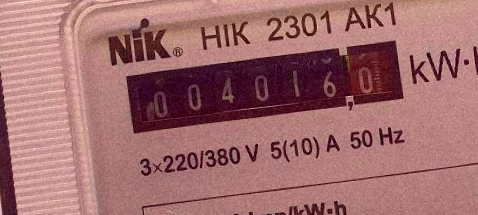0: (249, 69, 273, 106), (148, 85, 172, 120), (352, 62, 376, 96), (182, 79, 205, 114)
1: (286, 64, 305, 100)
4: (216, 72, 237, 108)
6: (317, 65, 339, 99)
screen: (117, 32, 413, 142)
